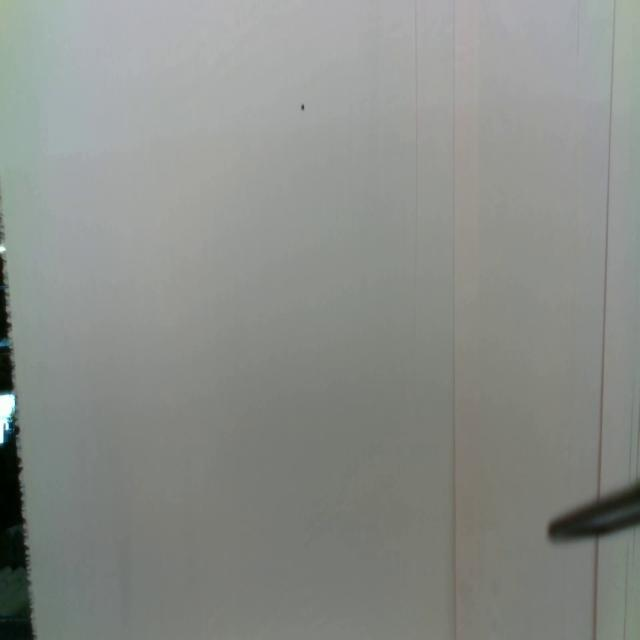crease: (595, 0, 617, 488), (450, 0, 460, 640), (411, 1, 421, 283), (592, 539, 602, 640), (627, 388, 637, 480), (621, 542, 630, 640)
hole: (300, 101, 307, 112)
